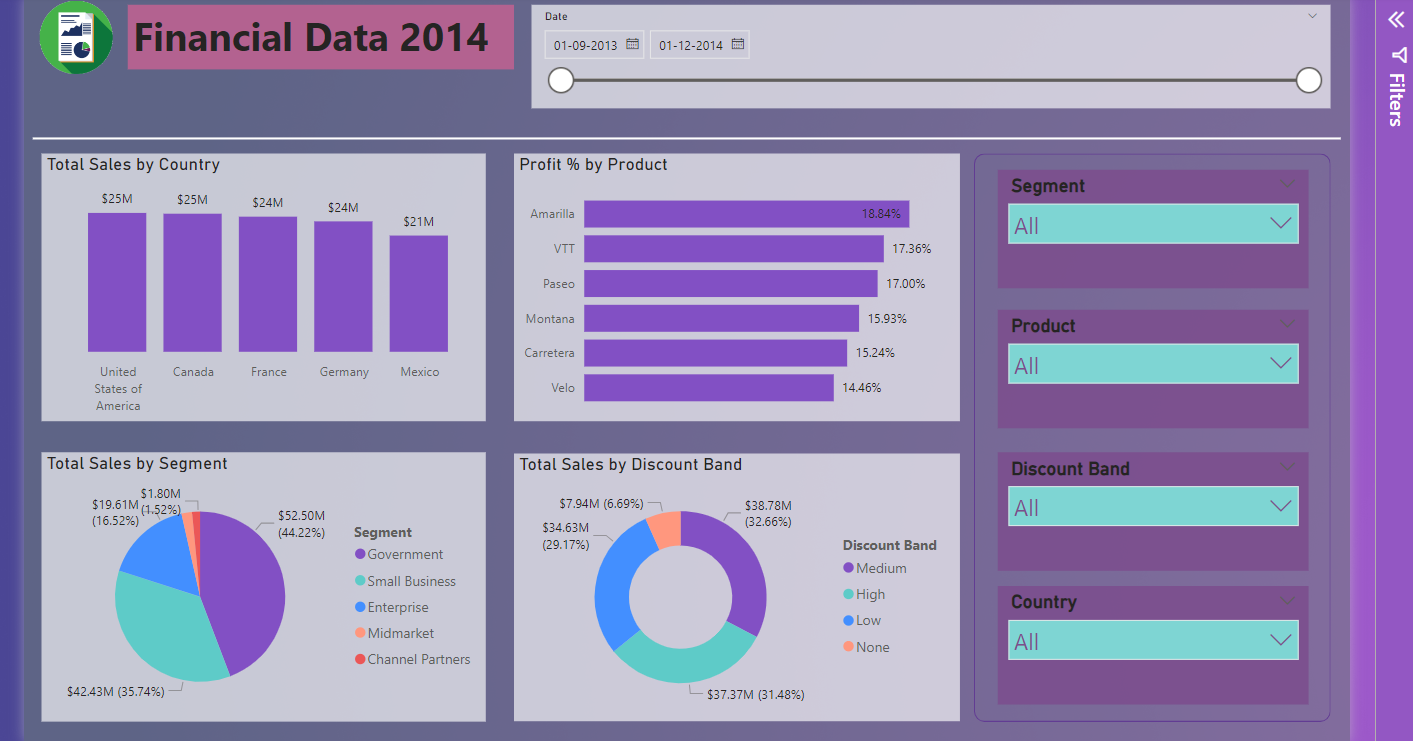

This screenshot's page, from the dashboard's own definition file:
{"tool":"powerbi","page":{"name":"Page 1","canvas":[1280,720],"ordinal":0},"visuals":[{"type":"textbox","box":[100.1,8.4,372.7,62.7],"z":0},{"type":"image","box":[0,0,100,80],"z":1000},{"type":"columnChart","fields":{"Category":["Financial_Table.Country"],"Y":["My Measure.Total Sales"]},"box":[17.1,151.4,428.6,258.6],"z":2000},{"type":"pieChart","fields":{"Category":["Financial_Table.Segment"],"Y":["My Measure.Total Sales"]},"box":[17.1,440,428.6,260],"z":3000},{"type":"barChart","fields":{"Y":["My Measure.Profit %"],"Category":["Financial_Table.Product"]},"box":[472.9,151.4,430,258.6],"z":4000},{"type":"donutChart","fields":{"Category":["Financial_Table.Discount Band"],"Y":["My Measure.Total Sales"]},"box":[472.9,441.4,430,258.6],"z":5000},{"type":"shape","box":[8.4,8.4,1262.7,258.1],"z":6000},{"type":"shape","box":[917.1,151.4,344.3,548.6],"z":7000},{"type":"slicer","fields":{"Values":["Financial_Table.Date"]},"box":[490,8.6,771.4,100],"z":8000},{"type":"slicer","fields":{"Values":["Financial_Table.Segment"]},"box":[940,167.1,300,114.3],"z":9000},{"type":"slicer","fields":{"Values":["Financial_Table.Product"]},"box":[940,302.9,300,114.3],"z":10000},{"type":"slicer","fields":{"Values":["Financial_Table.Discount Band"]},"box":[940,440,300,114.3],"z":11000},{"type":"slicer","fields":{"Values":["Financial_Table.Country"]},"box":[940,570,300,114.3],"z":12000}]}

Visuals, with their boxes on the page's 1280x720 design canvas (x1, y1, x2, y2). These are canvas units, not pixel positions in the 1413x741 screenshot, which may show the page scaled, cropped or inside an application window:
textbox: l=100, t=8, r=473, b=71
image: l=0, t=0, r=100, b=80
columnChart - Financial_Table.Country x My Measure.Total Sales: l=17, t=151, r=446, b=410
pieChart - Financial_Table.Segment x My Measure.Total Sales: l=17, t=440, r=446, b=700
barChart - My Measure.Profit % x Financial_Table.Product: l=473, t=151, r=903, b=410
donutChart - Financial_Table.Discount Band x My Measure.Total Sales: l=473, t=441, r=903, b=700
shape: l=8, t=8, r=1271, b=266
shape: l=917, t=151, r=1261, b=700
slicer - Financial_Table.Date: l=490, t=9, r=1261, b=109
slicer - Financial_Table.Segment: l=940, t=167, r=1240, b=281
slicer - Financial_Table.Product: l=940, t=303, r=1240, b=417
slicer - Financial_Table.Discount Band: l=940, t=440, r=1240, b=554
slicer - Financial_Table.Country: l=940, t=570, r=1240, b=684
